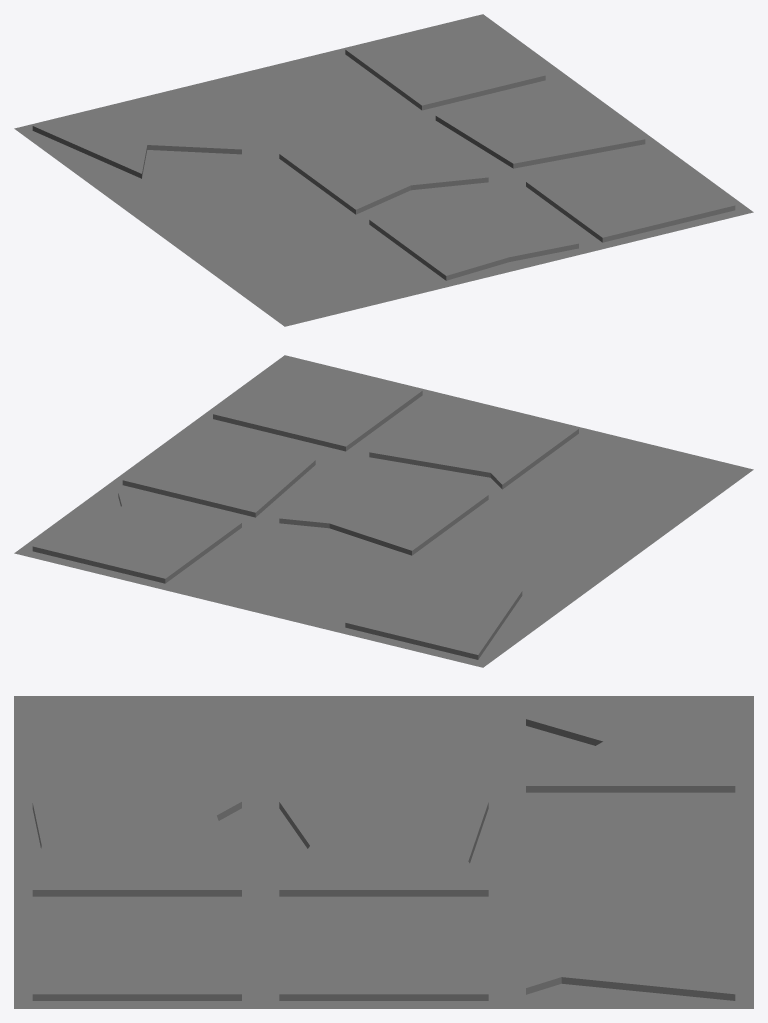
File: stone_floor3.fbx
3 views of the same model, one above another, from view 1: azimuth 30°, elevation 25°; view 2: azimuth 150°, elevation 25°; view 3: azimuth 270°, elevation 25° (orthographic). The views are drawn at different scales.
Parts seen in each view (by area): view 1: stone_floor3; view 2: stone_floor3; view 3: stone_floor3.
Part boxes in pixels (bbox=[...]): stone_floor3: bbox=[14, 14, 753, 326]; stone_floor3: bbox=[14, 355, 753, 667]; stone_floor3: bbox=[14, 696, 753, 1008].
Size of the model in its own units: 200 by 2 by 200.
